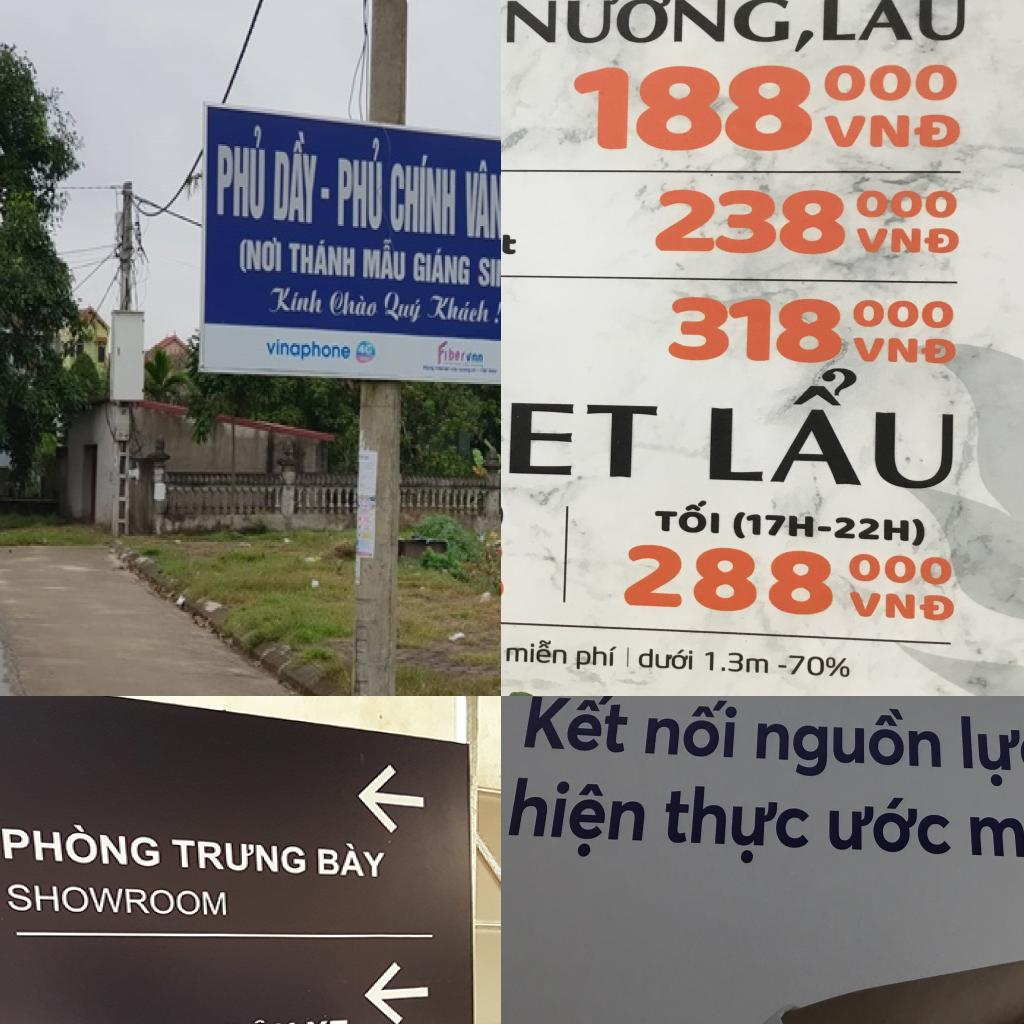text: (706, 365, 958, 492), (565, 62, 817, 154), (504, 0, 817, 55), (621, 540, 836, 618), (752, 706, 944, 779), (501, 393, 661, 480), (503, 766, 649, 861), (653, 187, 847, 255), (657, 784, 813, 866), (666, 294, 844, 364), (5, 879, 233, 921), (0, 819, 167, 873), (827, 796, 955, 861), (731, 510, 927, 548), (519, 696, 635, 758), (388, 146, 460, 240), (821, 0, 971, 44), (212, 115, 270, 228), (641, 696, 741, 761), (169, 835, 312, 878), (823, 62, 963, 103), (956, 709, 1024, 791), (823, 112, 963, 150), (271, 128, 323, 230), (334, 134, 385, 234), (847, 552, 955, 587), (847, 590, 958, 624), (850, 298, 957, 331), (286, 234, 358, 282), (463, 153, 501, 243), (849, 336, 958, 366), (856, 188, 958, 220), (854, 226, 962, 256), (312, 841, 390, 880), (264, 330, 352, 364), (413, 242, 473, 288), (652, 498, 722, 536), (426, 292, 493, 328), (359, 238, 408, 286), (237, 234, 287, 278), (268, 284, 325, 322), (504, 638, 570, 667), (330, 284, 380, 322), (702, 649, 772, 676), (427, 337, 489, 367), (787, 653, 852, 679), (384, 290, 426, 328), (636, 646, 694, 673), (574, 643, 620, 671), (475, 253, 501, 296), (501, 227, 519, 263), (304, 1017, 353, 1024), (357, 339, 375, 357), (492, 298, 501, 331)
